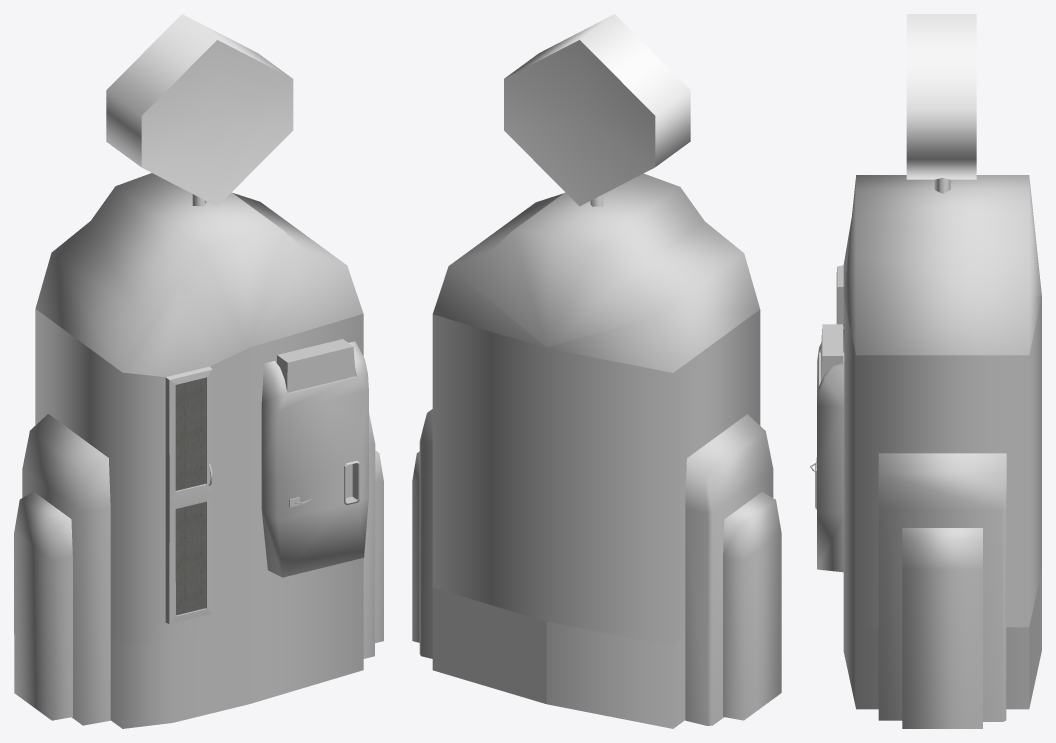
Rendered from zombie_vending_three_gun_on_lod2.glb.
3 views of the same model, side by side, from view 1: azimuth 30°, elevation 25°; view 2: azimuth 150°, elevation 25°; view 3: azimuth 270°, elevation 25° (orthographic).
Visible parts, largest first — view 1: zombie_vending_three_gun_on_lod2; view 2: zombie_vending_three_gun_on_lod2; view 3: zombie_vending_three_gun_on_lod2.
Boxes of the visible parts, x1,y1,x2,y2 form: zombie_vending_three_gun_on_lod2: [14, 14, 383, 728]; zombie_vending_three_gun_on_lod2: [412, 14, 781, 728]; zombie_vending_three_gun_on_lod2: [810, 14, 1041, 728].
Bounding box in the file's own units: 60.26 × 112 × 36.85.
Materials: 4 (1 with a texture image).
